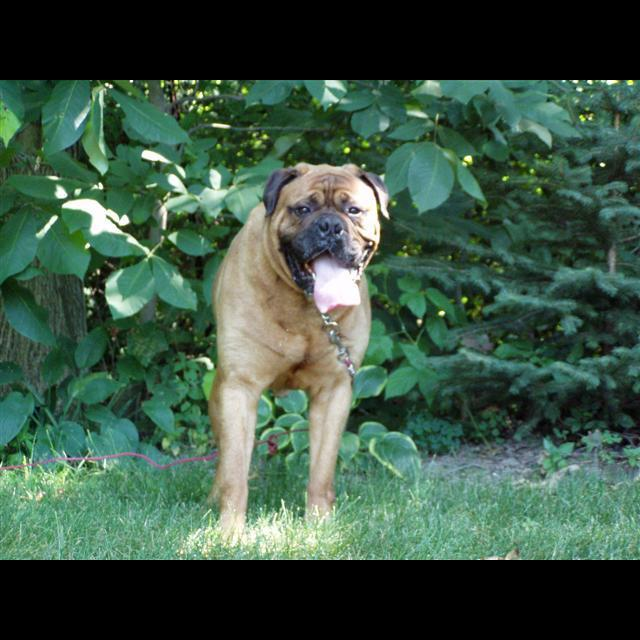bullmastiff: (206, 161, 393, 549)
